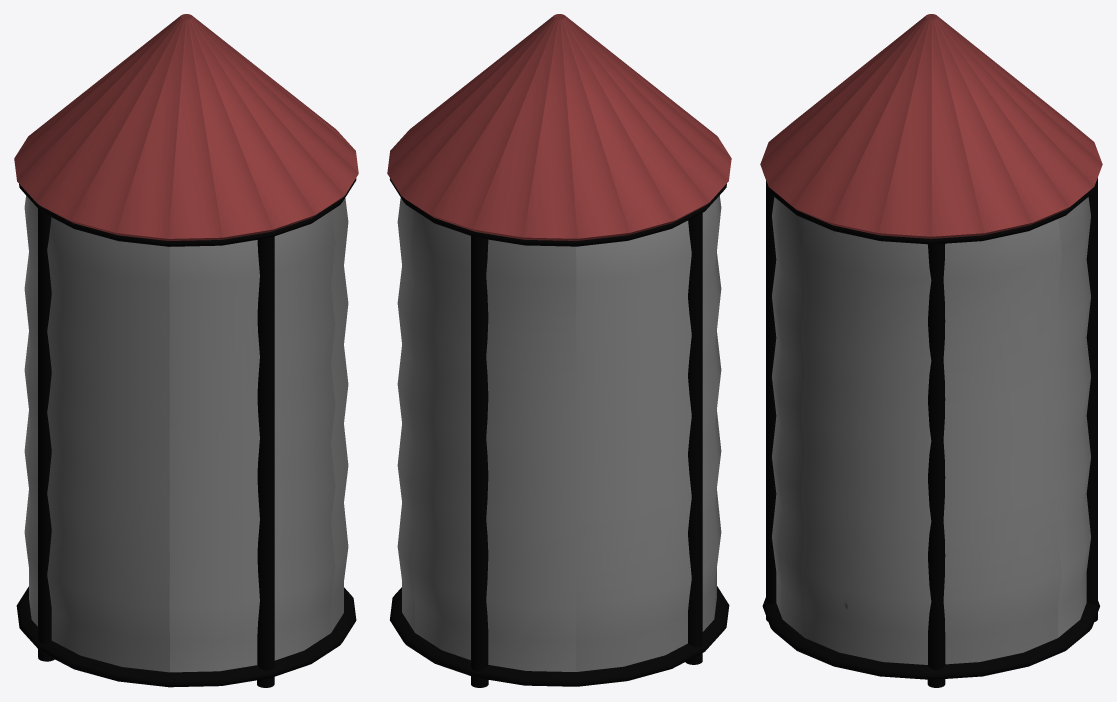
The model's file is WheatTower.fbx.
3 views of the same model, side by side, from view 1: azimuth 30°, elevation 25°; view 2: azimuth 150°, elevation 25°; view 3: azimuth 270°, elevation 25° (orthographic).
Parts seen in each view (by area): view 1: pTorus3; view 2: pTorus3; view 3: pTorus3.
Part boxes in pixels (<box>): pTorus3: <box>14,14,358,687</box>; pTorus3: <box>387,14,731,687</box>; pTorus3: <box>760,14,1102,687</box>.
Size of the model in its own units: 6.86 by 13.32 by 6.86.
